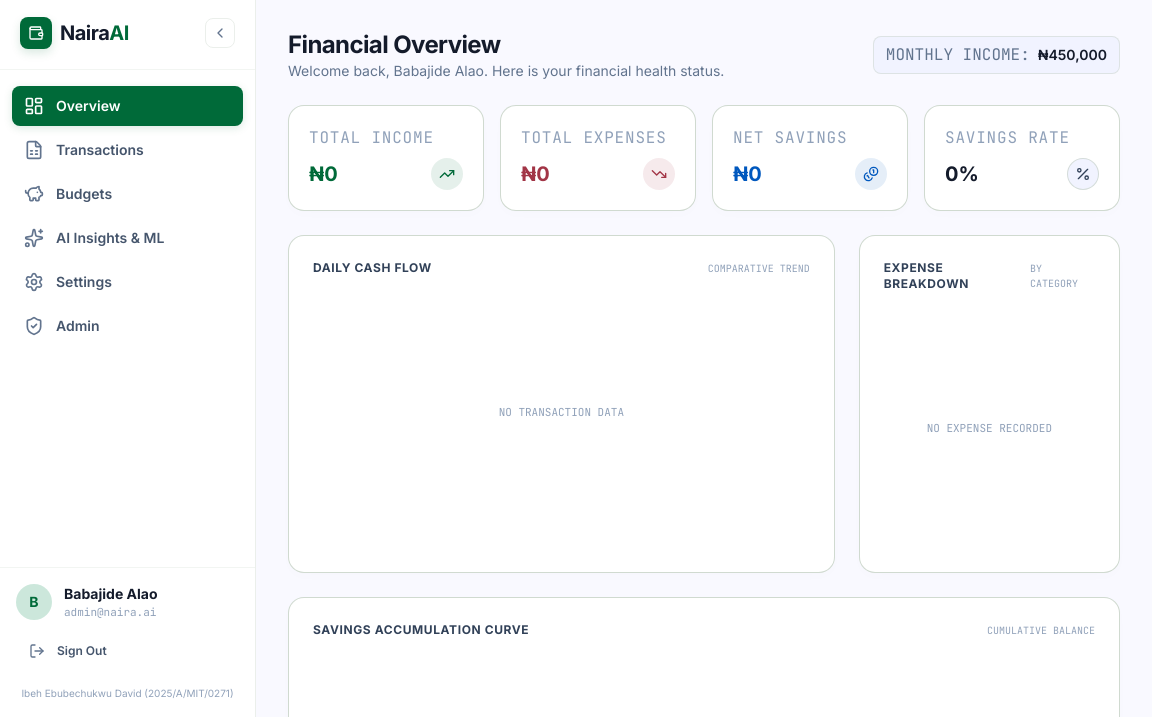
Test: Admin tab › creates a new category from the form
Check: the heading "Financial Overview" is shown, box [288,30,500,59]
Click the button "Admin" at (128, 326), box [12,306,243,346]
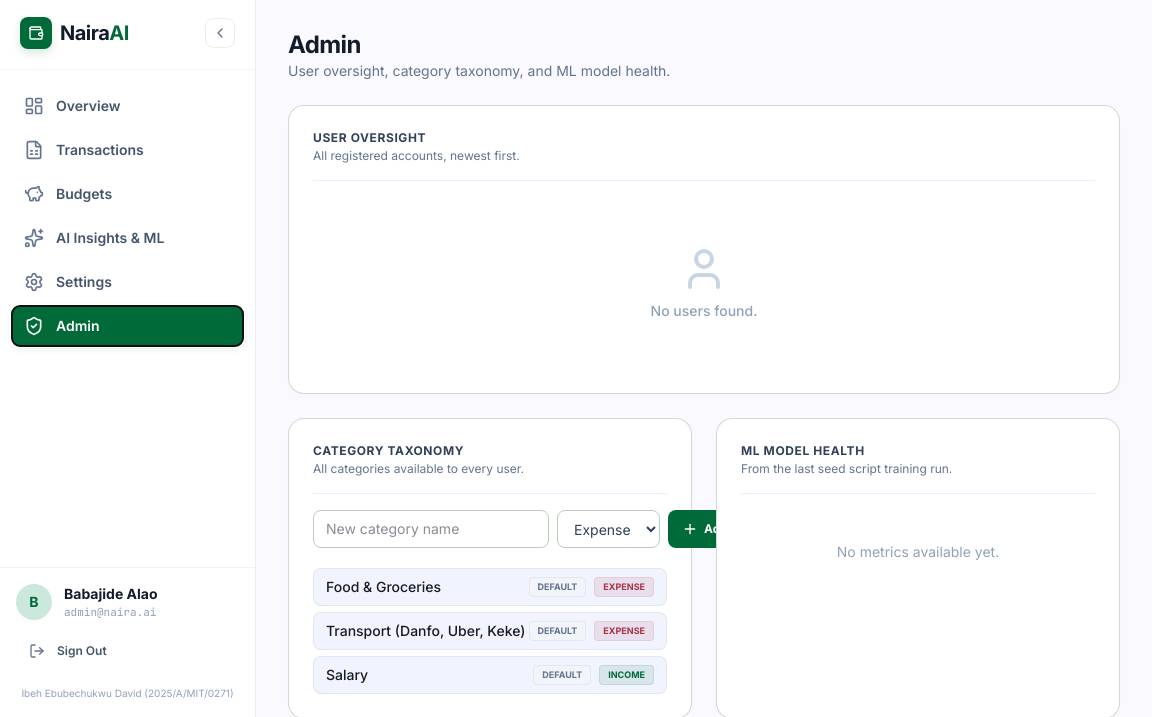
Check: the heading "User Oversight" is shown, box [313,130,426,145]
Check: the heading "Category Taxonomy" is shown, box [313,443,464,458]
Type "Pet Care" into the field with placeholder "New category name" at (431, 529), box [313,510,549,548]
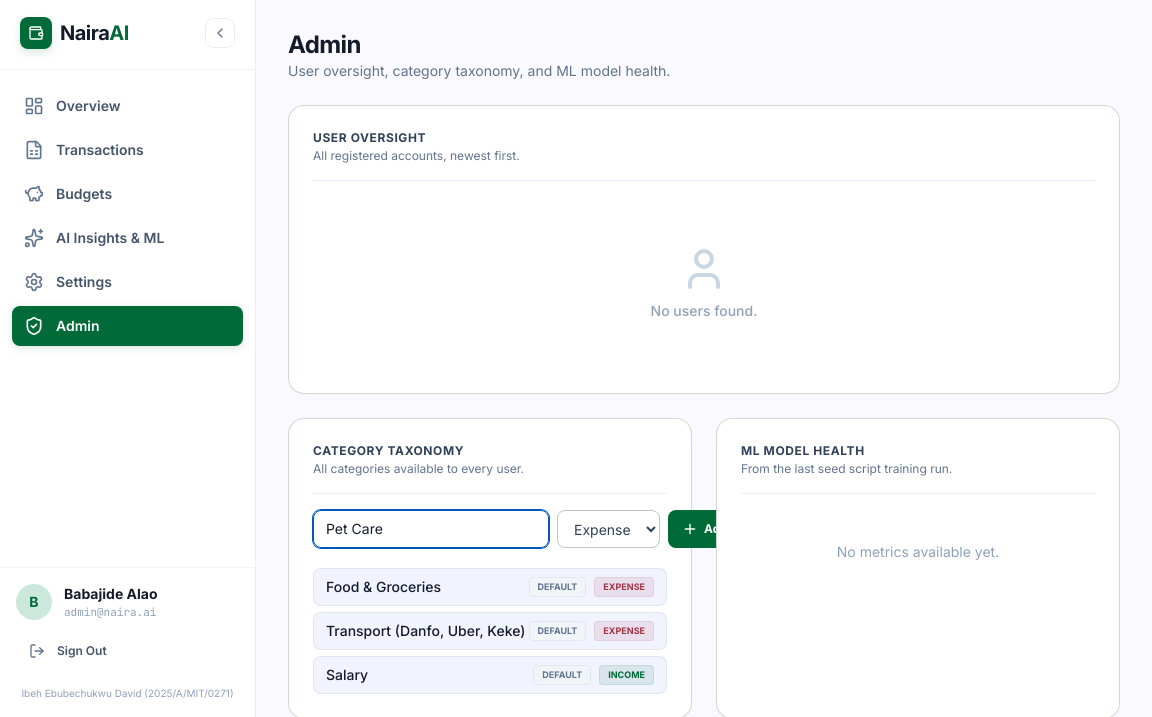
Click the button "Add" at (705, 529), box [668,510,742,548]
(page scrolled)
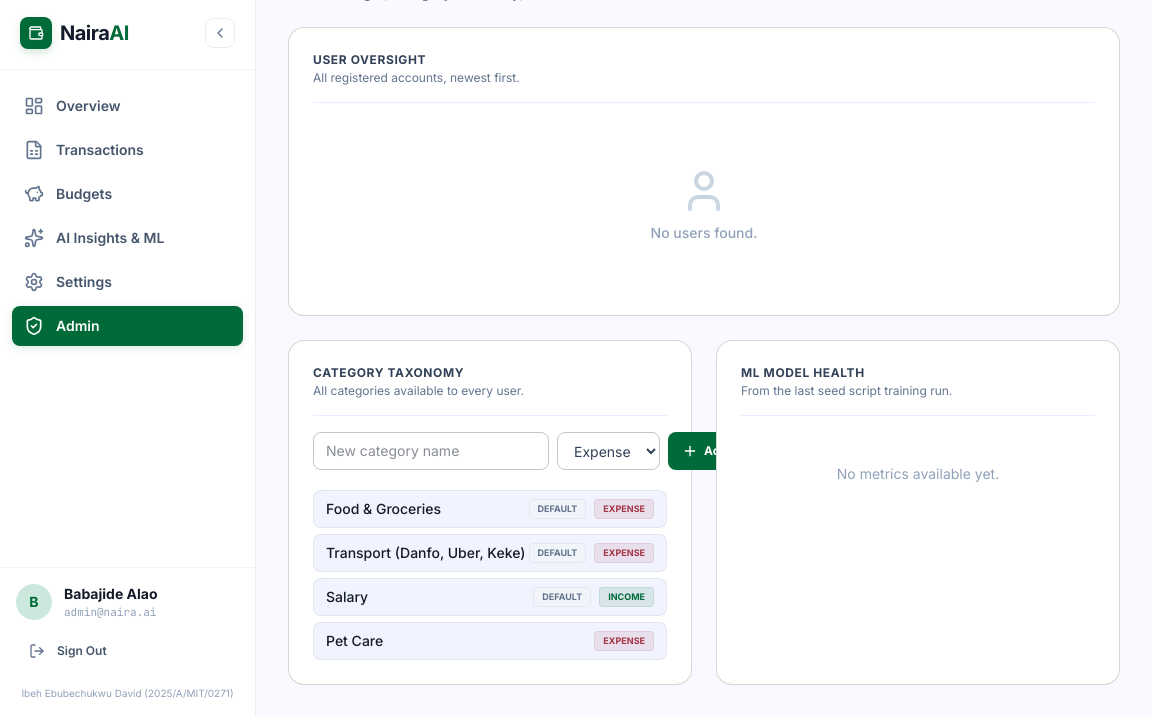
Check: the text "Pet Care" is shown, box [326,631,383,651]
